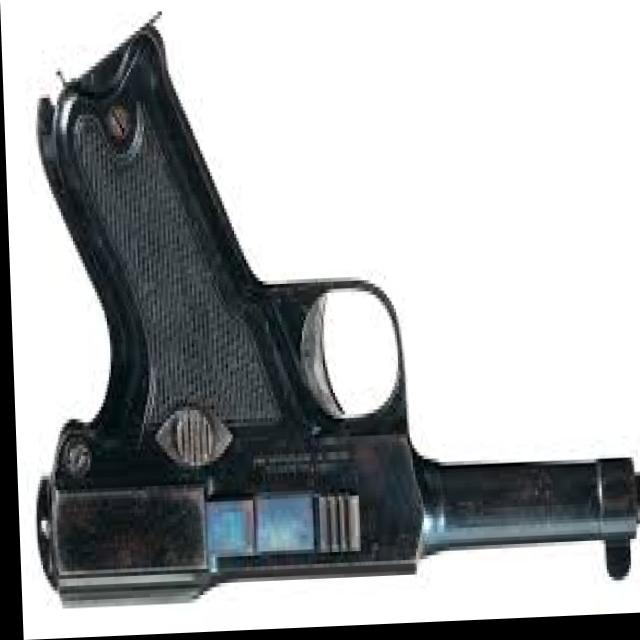handgun: (17, 33, 640, 621)
